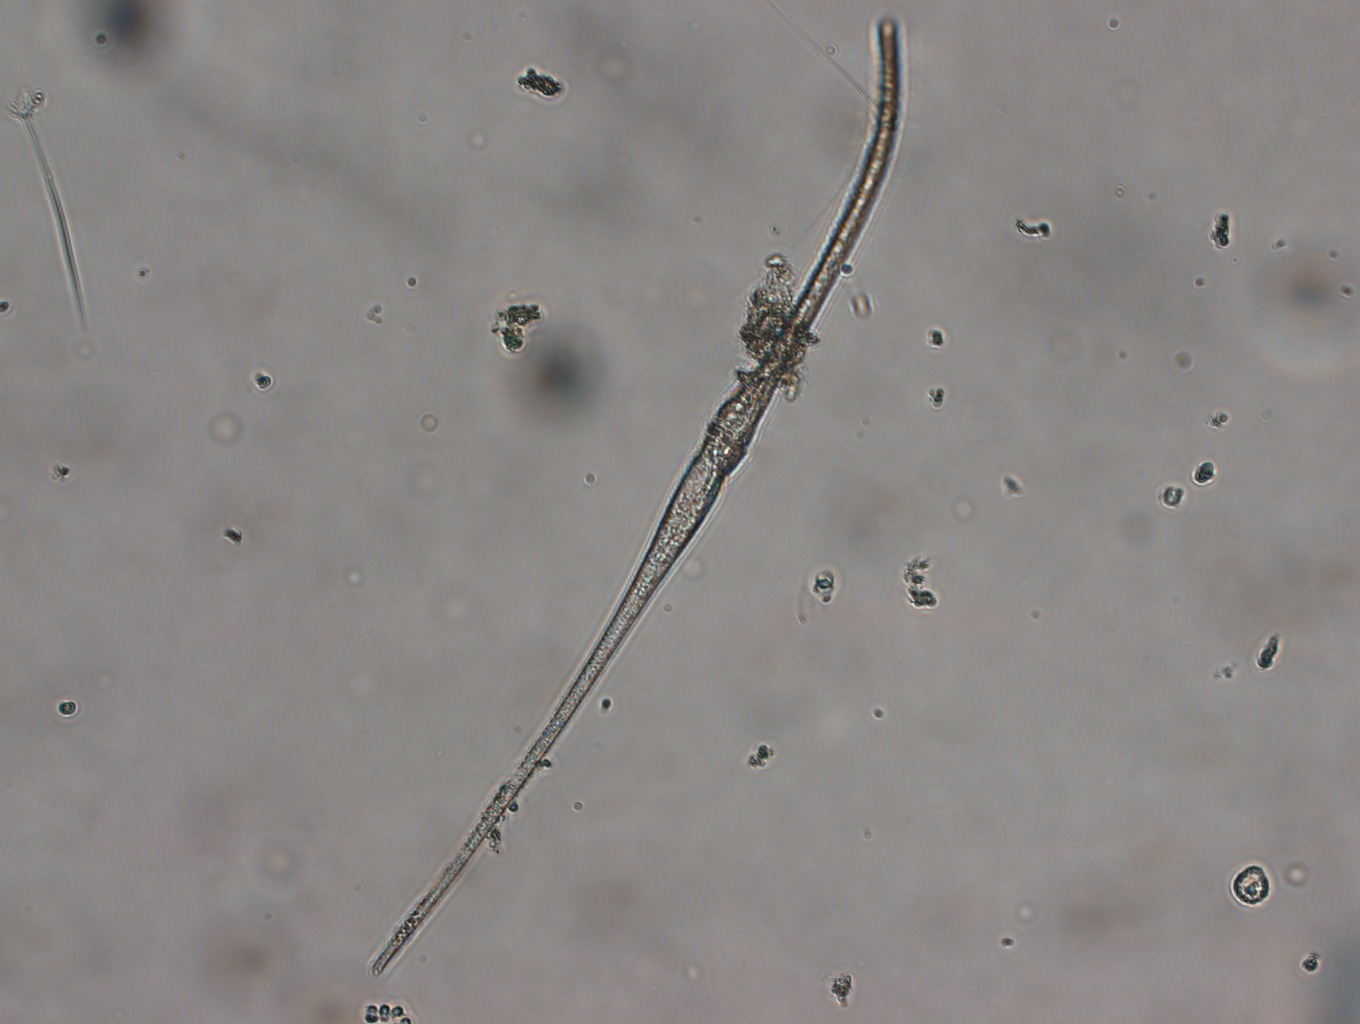ceratium fusus: (362, 11, 912, 990)
